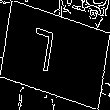L_S: (41, 27, 69, 83)
